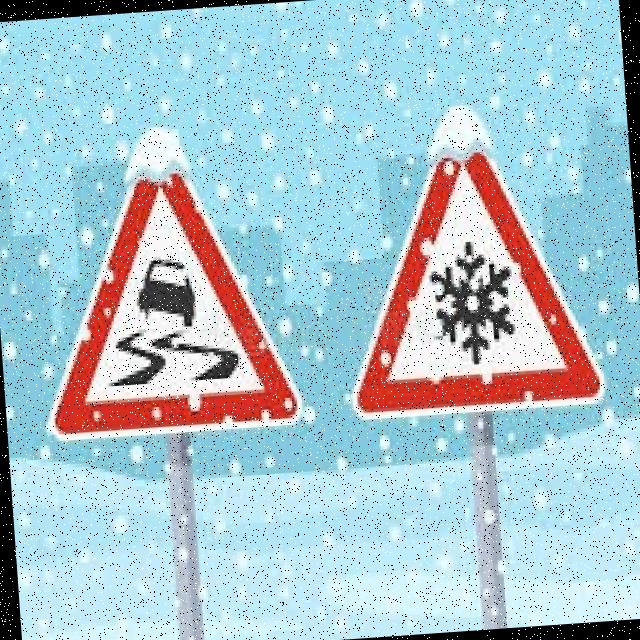snow_warning: (325, 94, 610, 438)
